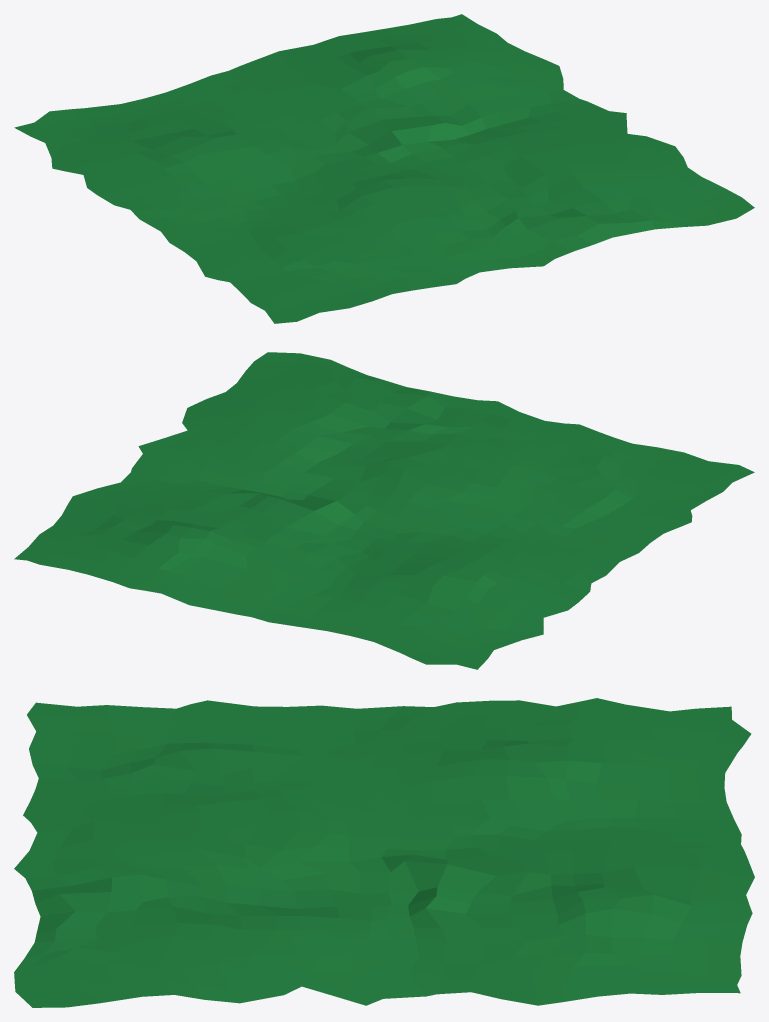
File: finca.glb
The picture shows the model from 3 angles, top to bottom: view 1: azimuth 30°, elevation 25°; view 2: azimuth 150°, elevation 25°; view 3: azimuth 270°, elevation 25°; orthographic projection. The views are drawn at different scales.
Parts seen in each view (by area): view 1: Plane; view 2: Plane; view 3: Plane.
Boxes of the visible parts, box(x1,y1,x2,y2) form: Plane: box(14, 14, 754, 323); Plane: box(14, 352, 754, 669); Plane: box(14, 698, 754, 1007).
Size of what is drawn, in the model's own units: 221 by 7.03 by 223.
Materials: 1 (1 with a texture image).
